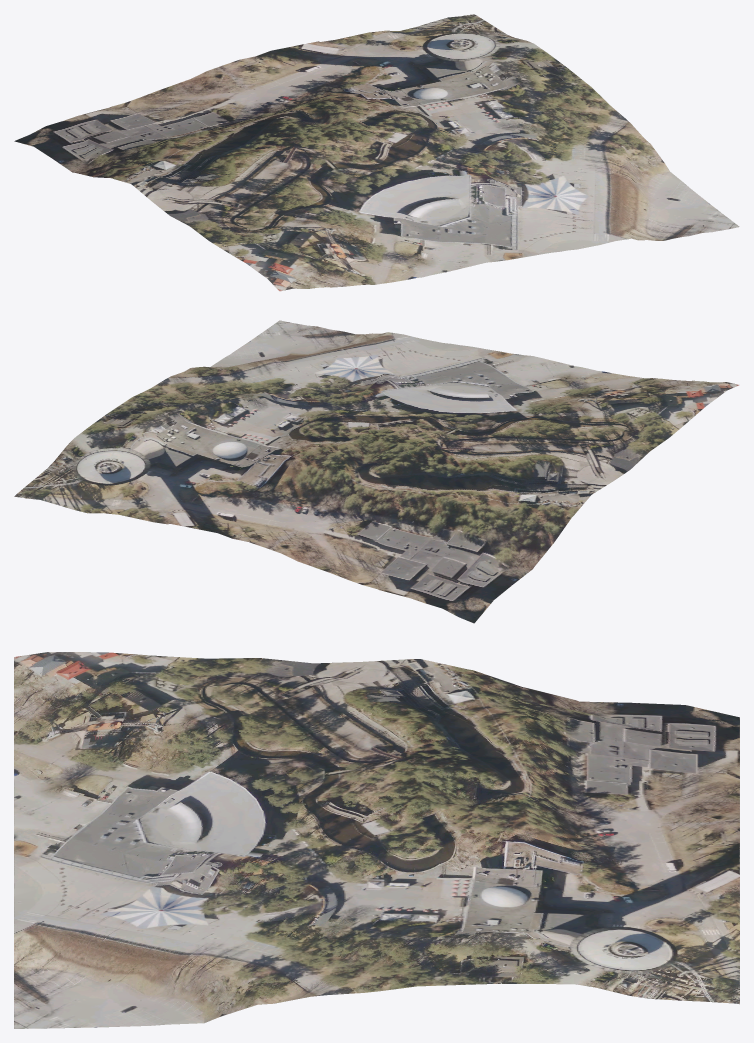
The model's file is CM_Terrain_24486158_6821636.fbx.
3 views of the same model, one above another, from view 1: azimuth 30°, elevation 25°; view 2: azimuth 150°, elevation 25°; view 3: azimuth 270°, elevation 25° (orthographic). The views are drawn at different scales.
Parts seen in each view (by area): view 1: CM_Terrain_24486158_6821636_LOD0; view 2: CM_Terrain_24486158_6821636_LOD0; view 3: CM_Terrain_24486158_6821636_LOD0.
Boxes of the visible parts, box(x1,y1,x2,y2) form: CM_Terrain_24486158_6821636_LOD0: box(14, 14, 739, 291); CM_Terrain_24486158_6821636_LOD0: box(14, 320, 739, 623); CM_Terrain_24486158_6821636_LOD0: box(14, 652, 739, 1028).
Size of what is drawn, in the model's own units: 205 by 21.92 by 205.
